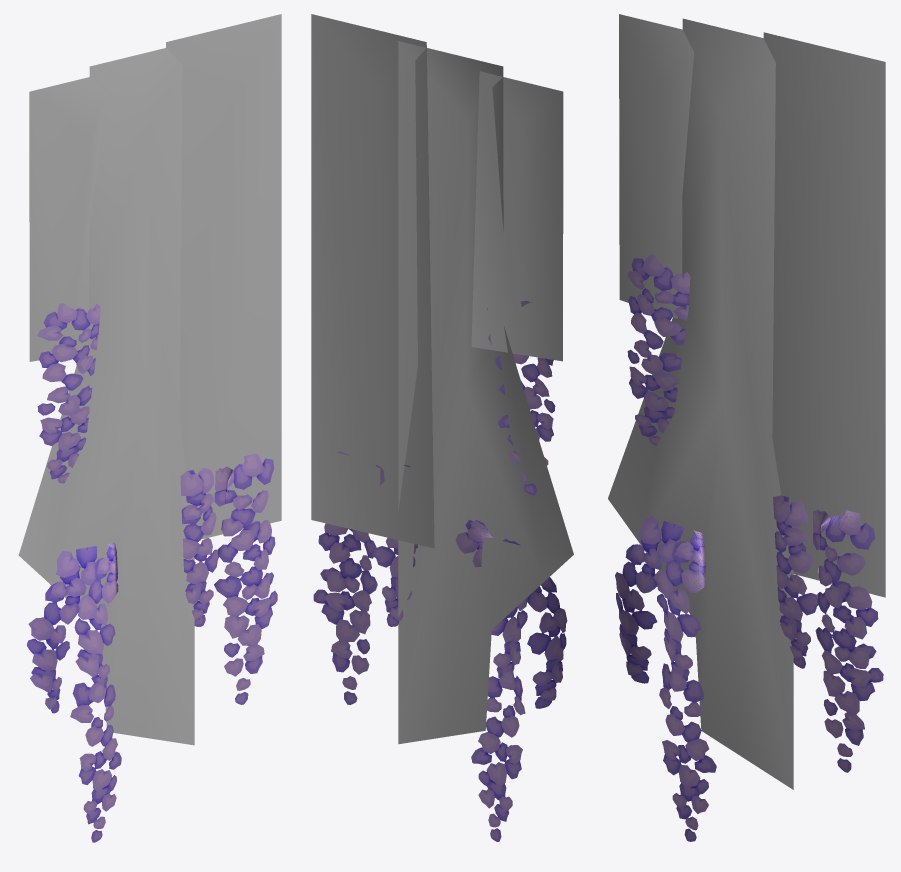
Rendered from SM_Env_Vines_Preset_Wall_05.fbx.
3 renders of one model, left to right at view 1: azimuth 30°, elevation 25°; view 2: azimuth 150°, elevation 25°; view 3: azimuth 330°, elevation 25°, orthographic. The views are drawn at different scales.
Parts seen in each view (by area): view 1: SM_Env_Vines_Preset_Wall_05; view 2: SM_Env_Vines_Preset_Wall_05; view 3: SM_Env_Vines_Preset_Wall_05.
Part boxes in pixels (x1,y1,x2,y2): SM_Env_Vines_Preset_Wall_05: (18, 14, 281, 842); SM_Env_Vines_Preset_Wall_05: (311, 14, 573, 841); SM_Env_Vines_Preset_Wall_05: (608, 14, 885, 841).
Bounding box in the file's own units: 111 × 316 × 7.63.
